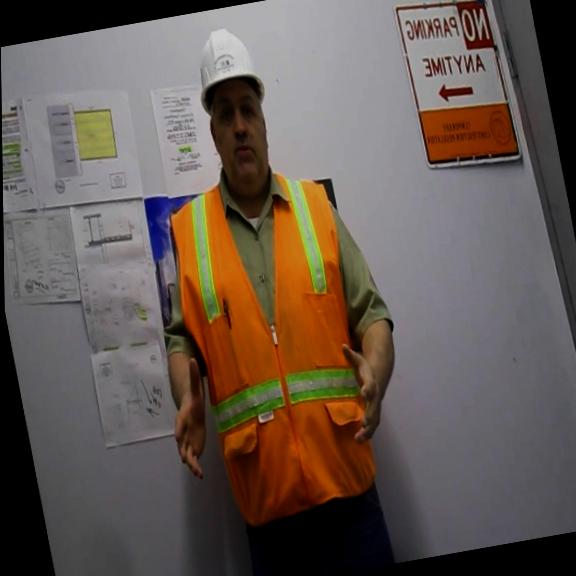safety_vest: (157, 159, 389, 535)
